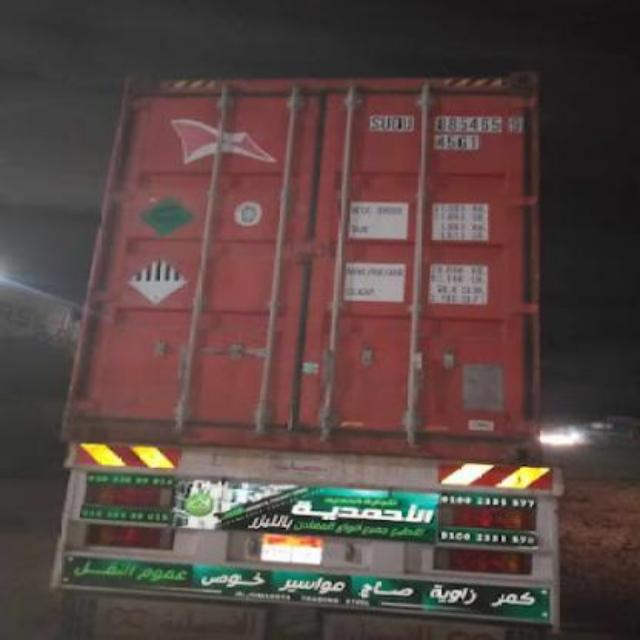4: (468, 116, 480, 132)
5: (491, 117, 502, 133), (459, 116, 468, 132)
6: (480, 116, 490, 134)
8: (434, 116, 446, 132), (448, 116, 458, 130)
9: (508, 117, 522, 133)
D: (390, 115, 402, 132)
S: (369, 115, 381, 133)
U: (402, 115, 413, 132), (380, 115, 390, 131)
